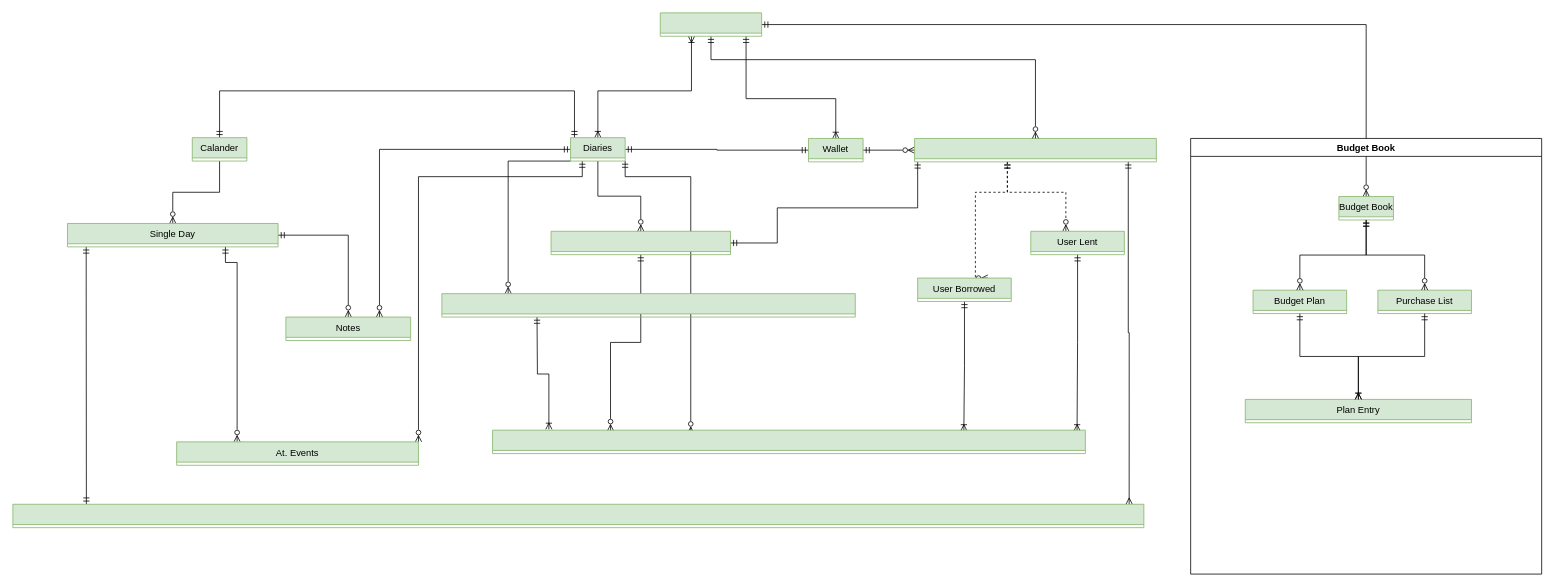
Image size: 1555x587. Some labels were removed from this diagram. The shapes that lost their labels are listed below. From the top down, each one's box as (x1, y1, x2, y2) in pixels, then its label:
(659, 12, 762, 36): User
(914, 138, 1156, 162): Debts
(550, 230, 730, 255): Category
(441, 293, 855, 317): Tags
(492, 429, 1085, 454): Transaction
(12, 503, 1144, 528): Remainders
